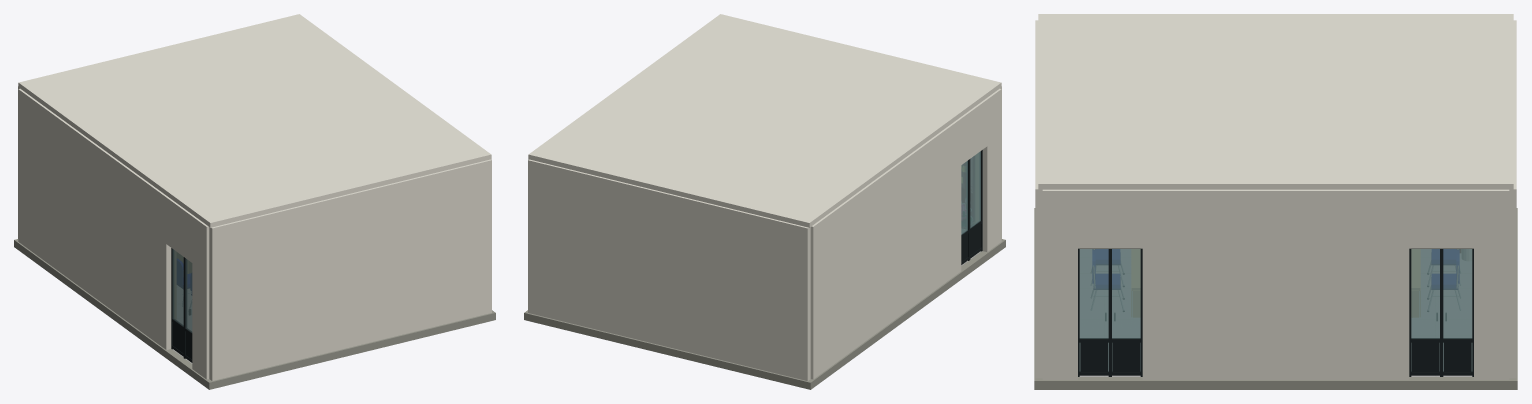
File: model-mobile.glb
3 views of the same model, side by side, from view 1: azimuth 30°, elevation 25°; view 2: azimuth 150°, elevation 25°; view 3: azimuth 270°, elevation 25° (orthographic). The views are drawn at different scales.
Parts seen in each view (by area): view 1: ceiling_roof, wall_back_shell, wall_left_pier_0, wall_left_lintel, floor_slab, wall_left_pier_1, left_door0_glass; view 2: ceiling_roof, wall_front_shell, wall_left_pier_0, wall_left_lintel, floor_slab, wall_left_pier_1, left_door0_glass, back_achievement_display; view 3: ceiling_roof, wall_right_pier_1, wall_right_lintel, floor_tiles, floor_slab, right_door0_glass, right_door1_glass, wall_right_pier_0, wall_right_pier_2, wall_front_shell, wall_back_shell, right_door0_lower1 (+5 smaller).
Part boxes in pixels (<box>): ceiling_roof: <box>18,14,491,227</box>; wall_back_shell: <box>209,159,491,380</box>; wall_left_pier_0: <box>18,136,171,349</box>; wall_left_lintel: <box>18,88,209,273</box>; floor_slab: <box>14,239,495,389</box>; wall_left_pier_1: <box>192,263,209,379</box>; left_door0_glass: <box>172,249,192,332</box>; ceiling_roof: <box>528,14,1001,227</box>; wall_front_shell: <box>528,159,810,380</box>; wall_left_pier_0: <box>810,165,961,379</box>; wall_left_lintel: <box>810,88,1001,273</box>; floor_slab: <box>524,239,1005,389</box>; wall_left_pier_1: <box>982,136,1001,251</box>; left_door0_glass: <box>961,151,980,234</box>; back_achievement_display: <box>962,156,974,228</box>; ceiling_roof: <box>1038,14,1513,189</box>; wall_right_pier_1: <box>1142,248,1409,379</box>; wall_right_lintel: <box>1042,189,1509,248</box>; floor_tiles: <box>1079,249,1472,376</box>; floor_slab: <box>1034,208,1517,389</box>; right_door0_glass: <box>1411,249,1472,371</box>; right_door1_glass: <box>1079,249,1140,371</box>; wall_right_pier_0: <box>1474,248,1509,379</box>; wall_right_pier_2: <box>1042,248,1077,379</box>; wall_front_shell: <box>1509,20,1516,378</box>; wall_back_shell: <box>1035,20,1042,378</box>; right_door0_lower1: <box>1411,342,1439,371</box>.
Bounding box in the file's own units: 6.68 × 3.68 × 7.88.
186 materials, 185 textured.
